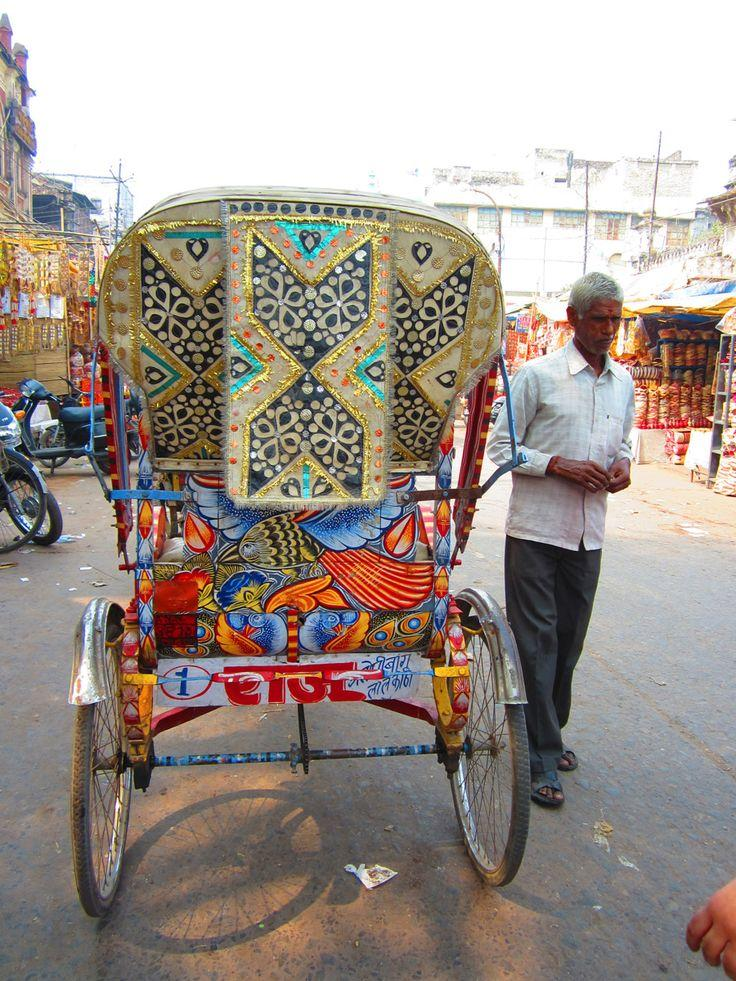Rickshaw: (60, 166, 544, 930)
